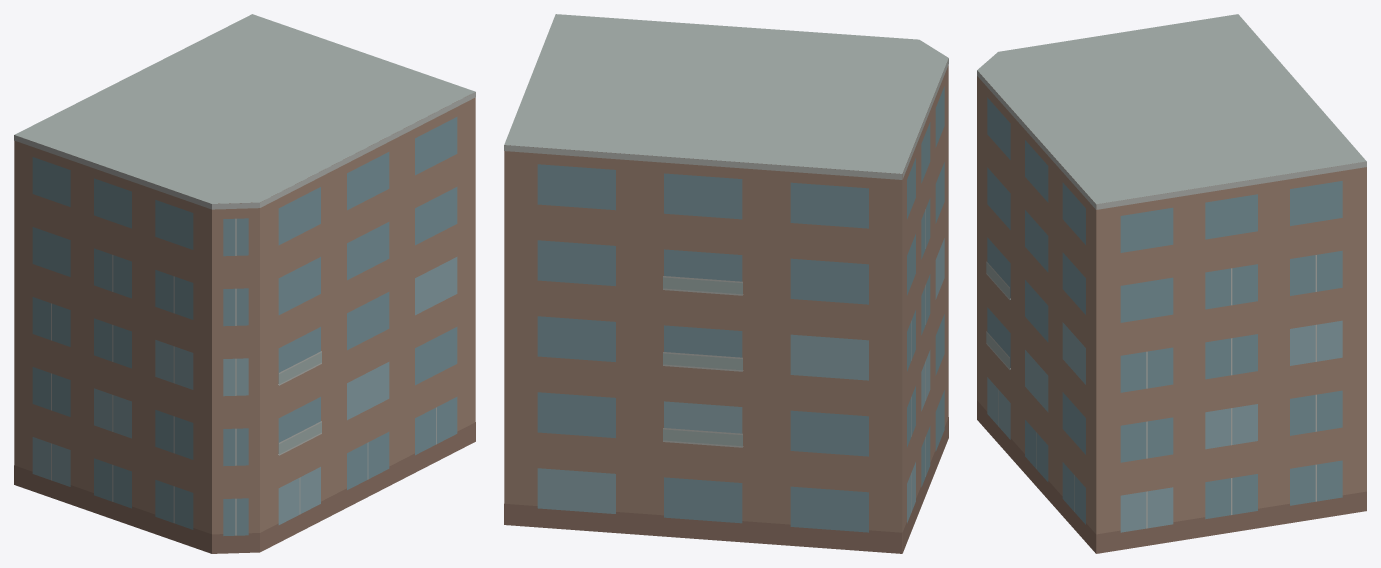
File: survey-upis-32523631.glb
The picture shows the model from 3 angles, left to right: view 1: azimuth 30°, elevation 25°; view 2: azimuth 150°, elevation 25°; view 3: azimuth 270°, elevation 25°; orthographic projection. The views are drawn at different scales.
Parts seen in each view (by area): view 1: survey-upis-32523631.tmp; view 2: survey-upis-32523631.tmp; view 3: survey-upis-32523631.tmp.
Part boxes in pixels (x1,y1,x2,y2): survey-upis-32523631.tmp: (14,14,475,553); survey-upis-32523631.tmp: (504,14,948,553); survey-upis-32523631.tmp: (977,14,1366,553).
Size of the model in its own units: 17.82 by 15.25 by 15.42.
